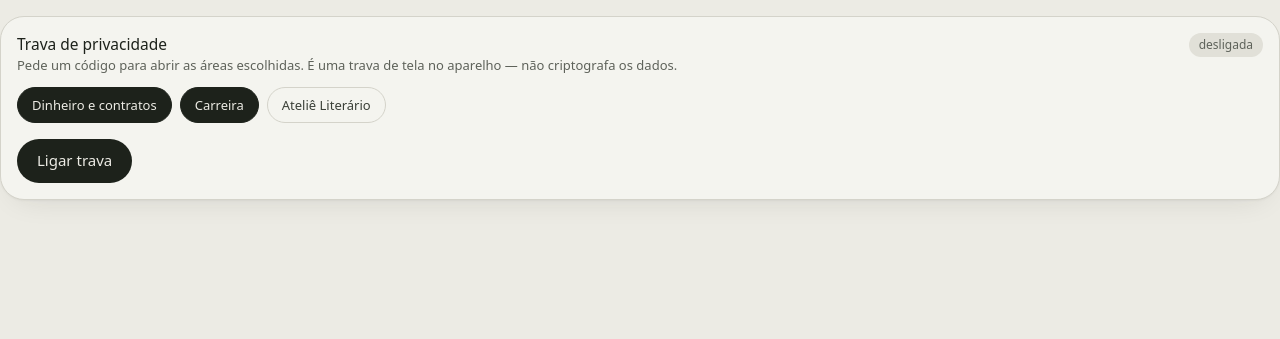
Scenario: privacy code — real flow › turning it off needs the code
This screenshot has width=1280, height=339.
Later steps or results of the test are not shown.
Click the button "Ligar trava": [75, 161] box [17, 139, 132, 183]
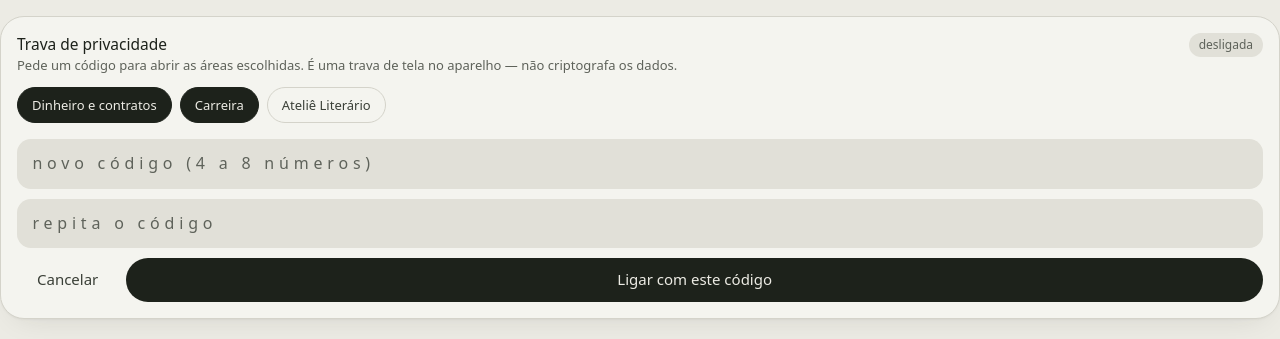
In the password field labelled "novo código (4 a 8 números)": [640, 164] box [17, 139, 1263, 188], type "2580"
In the password field labelled "repita o código": [640, 223] box [17, 198, 1263, 248], type "2580"
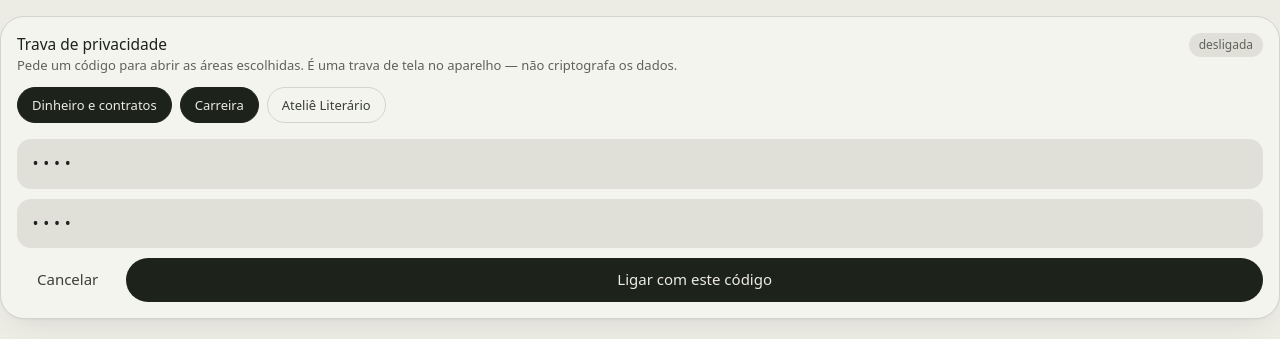
Click the button "Ligar com este código": [695, 280] box [126, 258, 1263, 302]
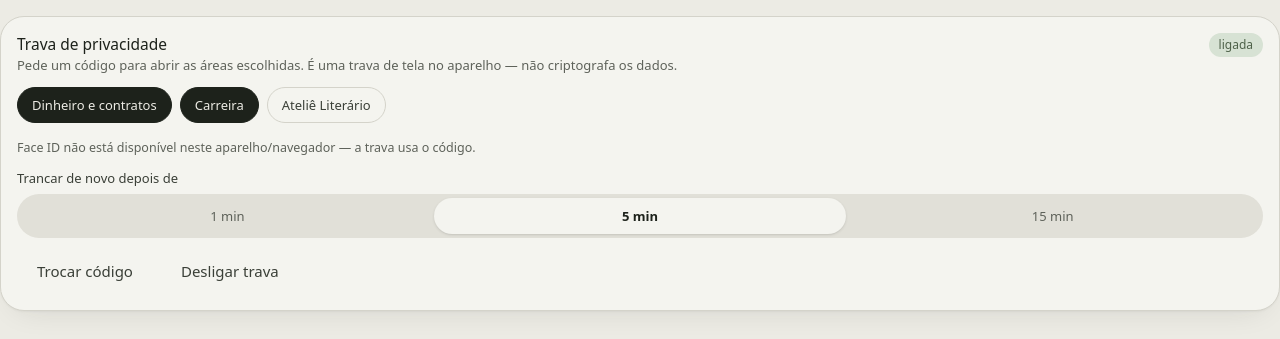
Expected: the button "Desligar trava" is shown
Click the button "Desligar trava": [230, 272] box [161, 250, 299, 294]
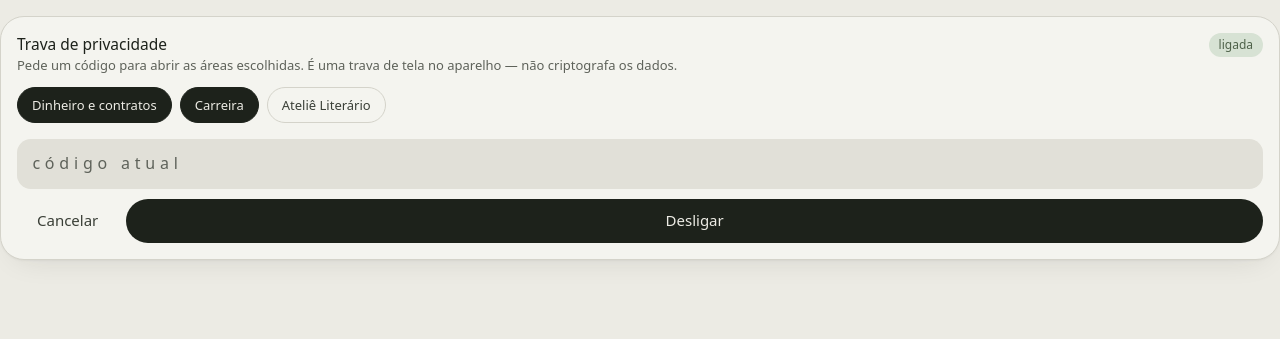
In the password field labelled "código atual": [640, 164] box [17, 139, 1263, 188], type "9999"
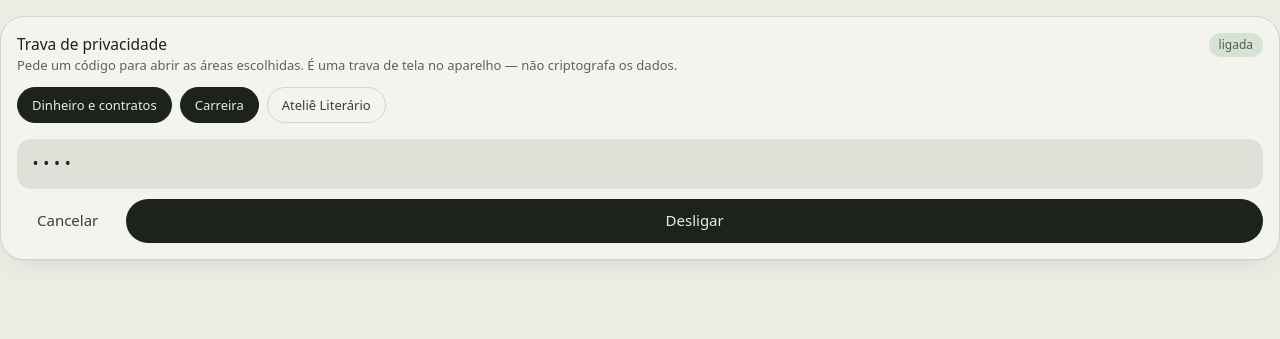
Click the button "Desligar": [695, 220] box [126, 198, 1263, 242]
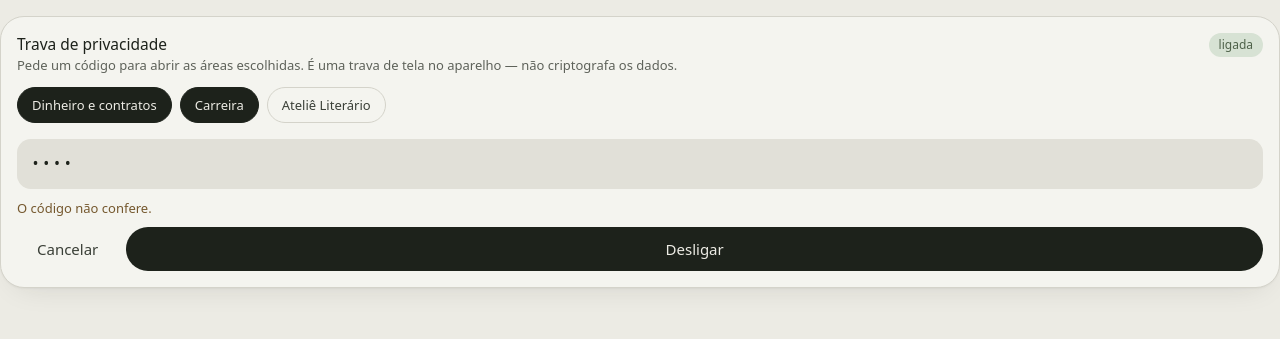
Expected: the text "O código não confere." is shown, [17, 198, 152, 216]
